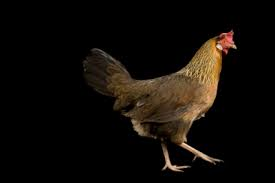chicken: (68, 27, 250, 176)
